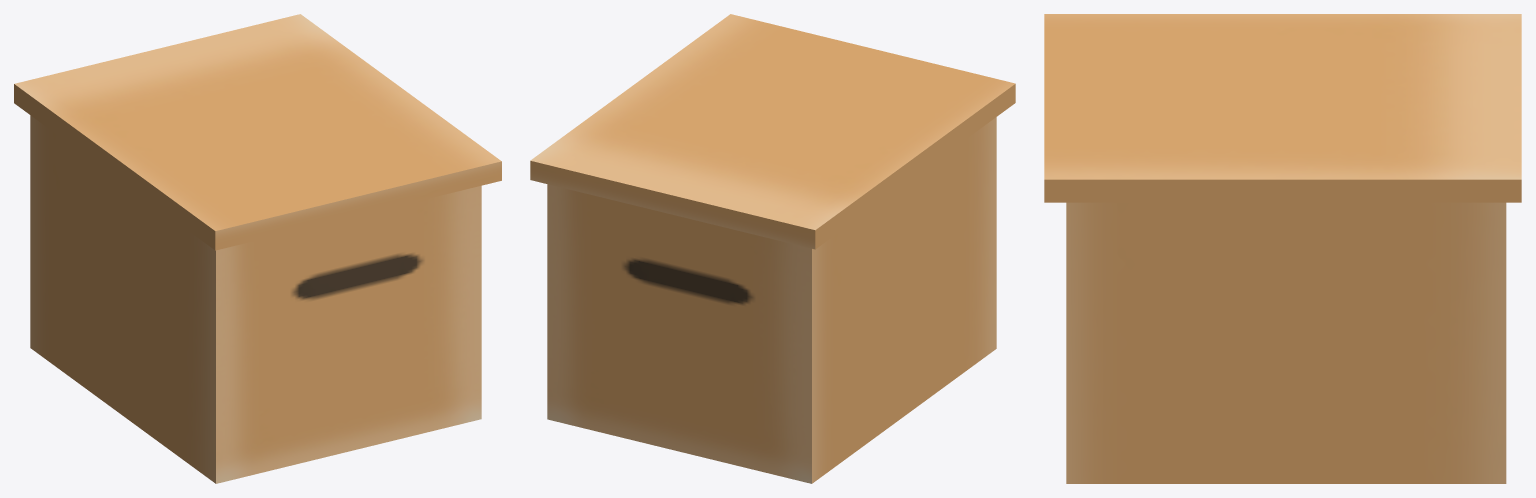
File: CardboardBox.fbx
The picture shows the model from 3 angles, left to right: view 1: azimuth 30°, elevation 25°; view 2: azimuth 150°, elevation 25°; view 3: azimuth 270°, elevation 25°; orthographic projection. The views are drawn at different scales.
Parts seen in each view (by area): view 1: Maya_File_Assets:TexturedAssetsCurrent:JohnPepper02Assets:St; view 2: Maya_File_Assets:TexturedAssetsCurrent:JohnPepper02Assets:St; view 3: Maya_File_Assets:TexturedAssetsCurrent:JohnPepper02Assets:St.
Part boxes in pixels (bbox=[...]): Maya_File_Assets:TexturedAssetsCurrent:JohnPepper02Assets:St: bbox=[14, 14, 501, 483]; Maya_File_Assets:TexturedAssetsCurrent:JohnPepper02Assets:St: bbox=[530, 14, 1015, 483]; Maya_File_Assets:TexturedAssetsCurrent:JohnPepper02Assets:St: bbox=[1044, 14, 1521, 483].
Bounding box in the file's own units: 0.4997 × 0.4367 × 0.6082.
